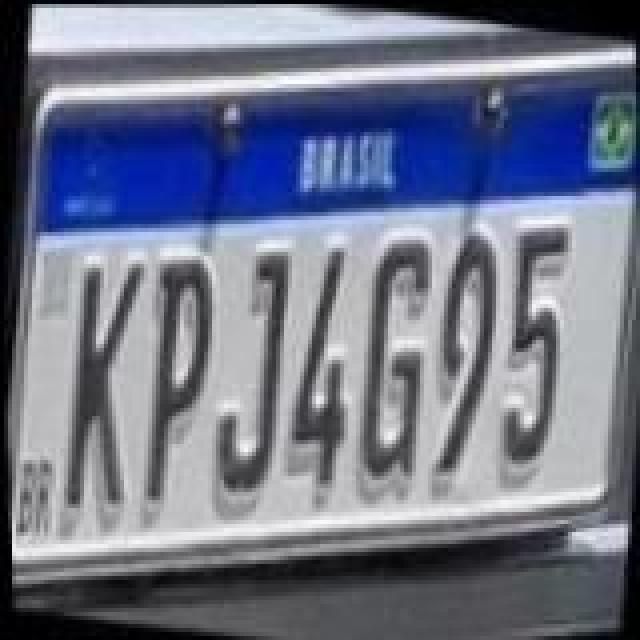4: (278, 240, 370, 488)
5: (486, 210, 578, 466)
9: (418, 230, 510, 482)
G: (348, 230, 444, 478)
J: (202, 240, 302, 504)
K: (52, 248, 152, 516)
P: (126, 252, 226, 508)
